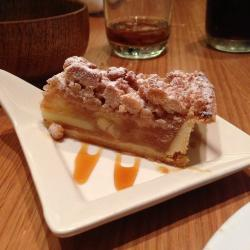apple_pie: (32, 58, 225, 173)
